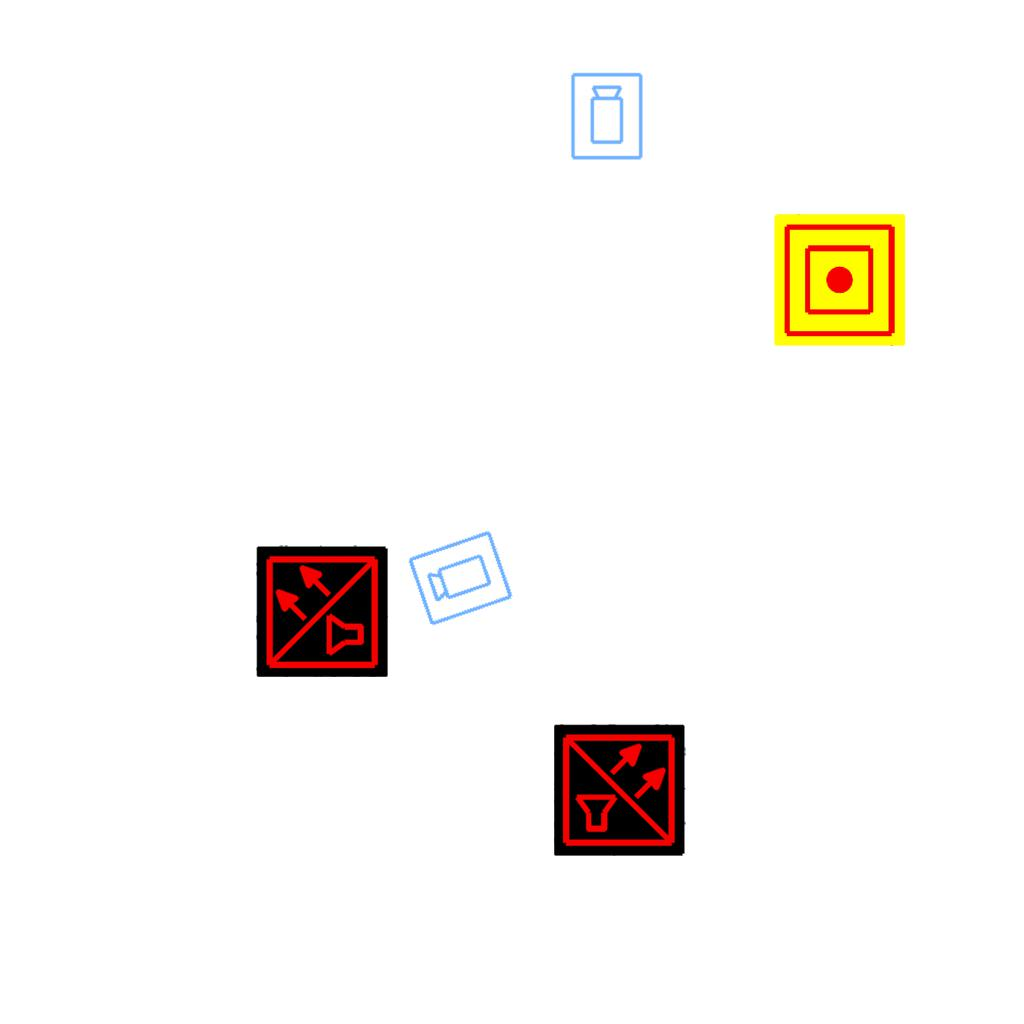KFO_Kamera_mit_Festobjektiv: (404, 526, 517, 629), (569, 71, 646, 162)
NAM-Nichtautomatischer_Melder: (774, 214, 906, 346)
OKW_Multisensormelder_(Kombination_optischer_Rauch-Kahlenmonoxid_Waerme-Melder): (554, 724, 686, 856), (256, 545, 388, 677)
